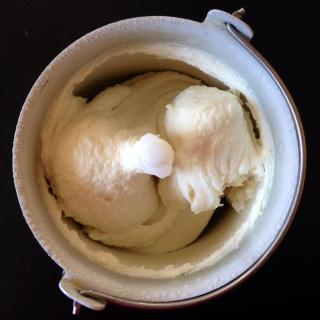Ice cream: (18, 27, 286, 263)
